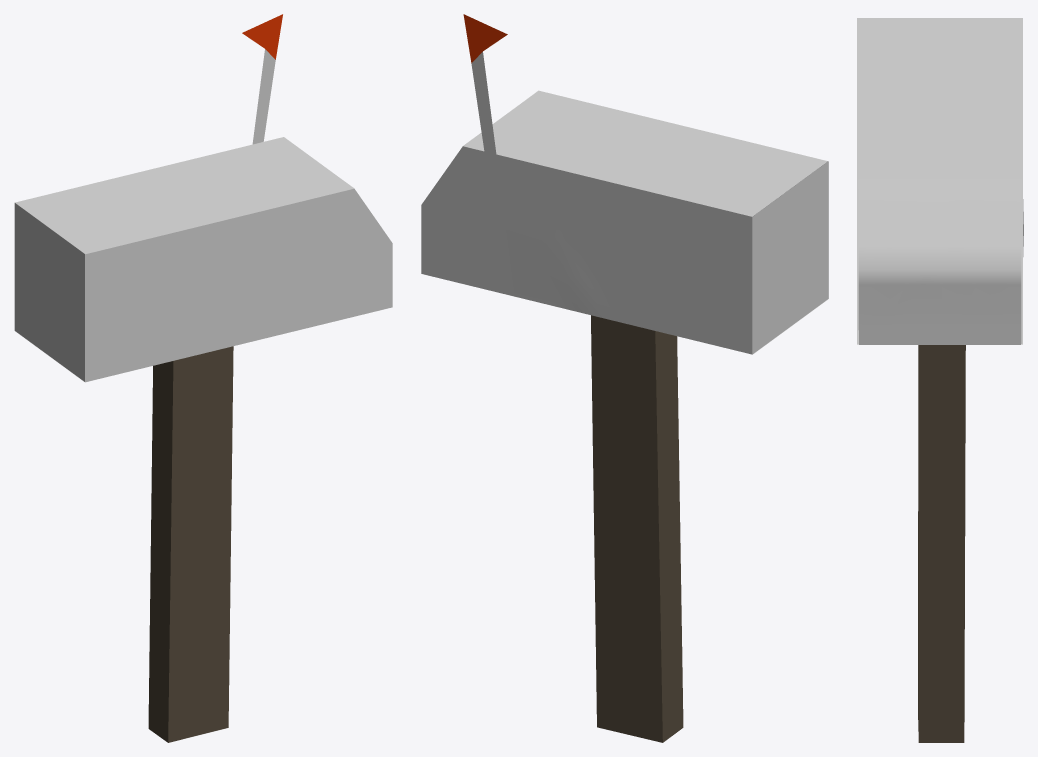
Rendered from Mailbox.fbx.
3 views of the same model, side by side, from view 1: azimuth 30°, elevation 25°; view 2: azimuth 150°, elevation 25°; view 3: azimuth 270°, elevation 25° (orthographic). The views are drawn at different scales.
Visible parts, largest first — view 1: nurbsToPoly7; view 2: nurbsToPoly7; view 3: nurbsToPoly7.
Boxes of the visible parts, x1,y1,x2,y2 form: nurbsToPoly7: (14, 14, 392, 742); nurbsToPoly7: (421, 14, 828, 742); nurbsToPoly7: (857, 18, 1023, 742).
Bounding box in the file's own units: 1.42 × 2.89 × 0.5664.
